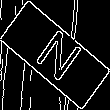N_SW: (27, 23, 83, 87)
